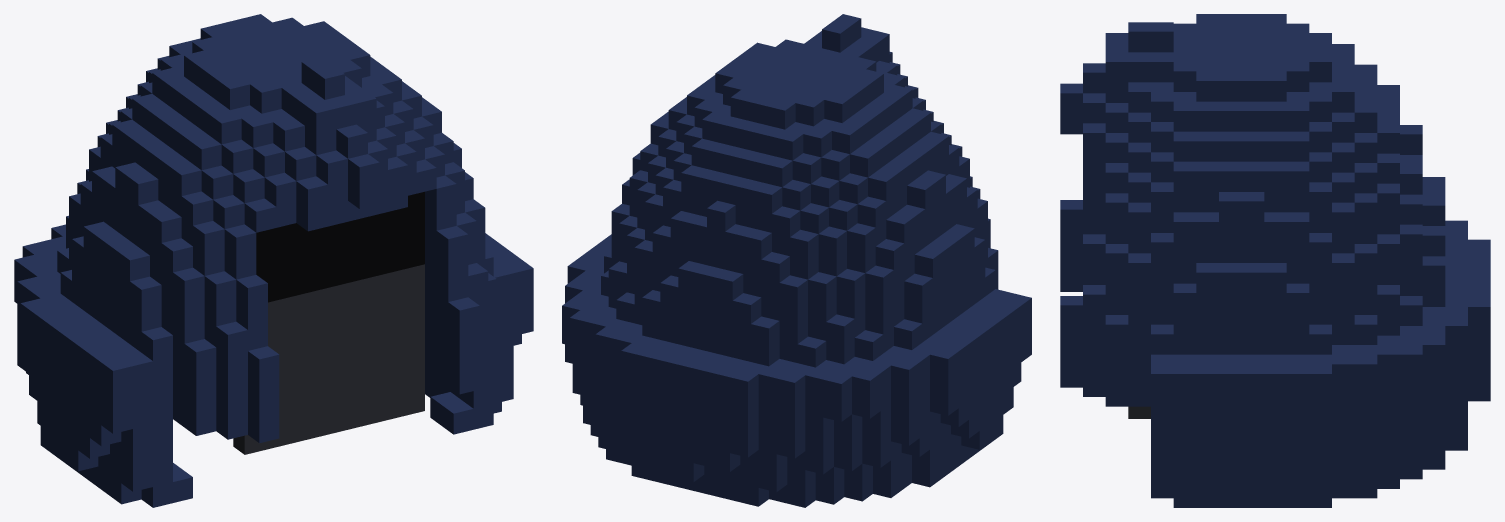
The model's file is cloth_rare_helmet_lod1.glb.
The picture shows the model from 3 angles, left to right: view 1: azimuth 30°, elevation 25°; view 2: azimuth 150°, elevation 25°; view 3: azimuth 270°, elevation 25°; orthographic projection. The views are drawn at different scales.
Visible parts, largest first — view 1: cloth_rare_helmet_lod1; view 2: cloth_rare_helmet_lod1; view 3: cloth_rare_helmet_lod1.
Part boxes in pixels (x1,y1,x2,y2): cloth_rare_helmet_lod1: (14, 14, 533, 507); cloth_rare_helmet_lod1: (562, 14, 1031, 507); cloth_rare_helmet_lod1: (1060, 14, 1490, 507).
Bounding box in the file's own units: 0.504 × 0.456 × 0.456.
